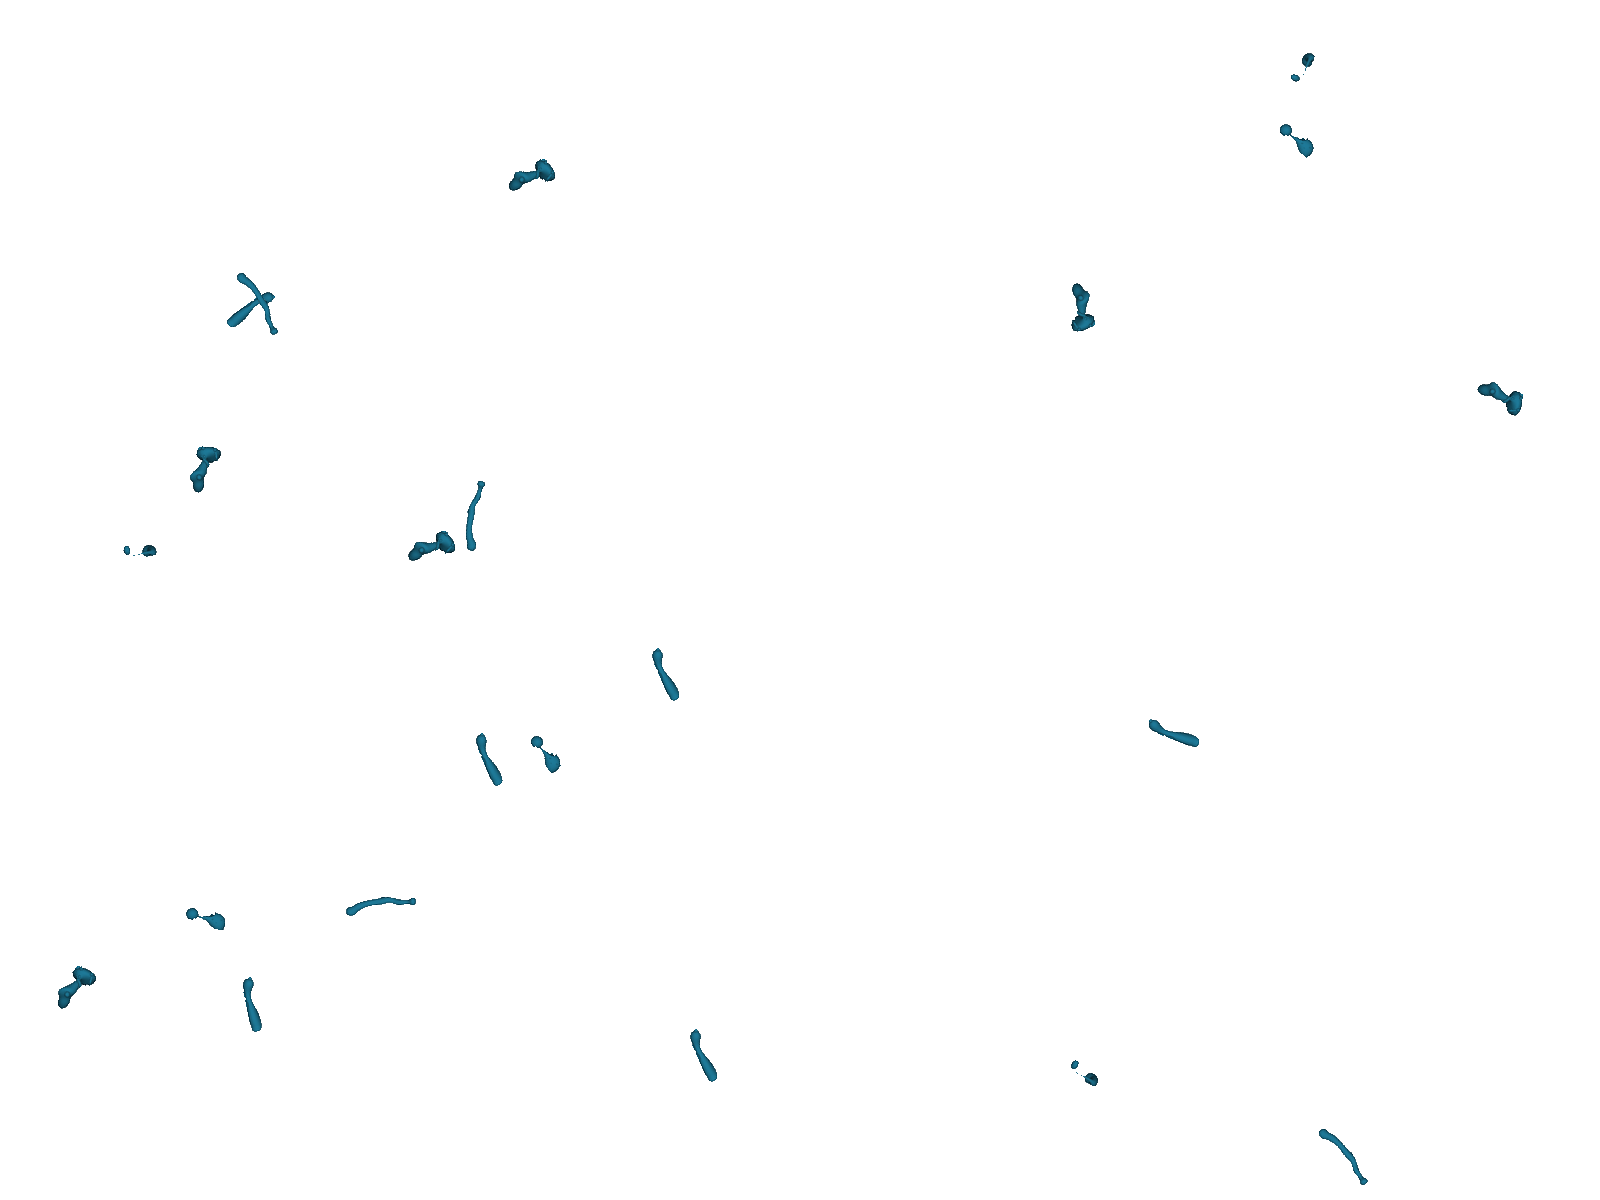Detached ligament: (1315, 1117, 1372, 1194), (451, 476, 499, 556), (234, 263, 282, 342), (47, 961, 100, 1017), (220, 286, 278, 334), (501, 153, 559, 200), (401, 524, 459, 571), (1471, 373, 1529, 418), (646, 645, 687, 706), (684, 1026, 724, 1087), (181, 441, 224, 498), (470, 730, 509, 792), (1144, 715, 1204, 753), (341, 892, 418, 919), (1063, 279, 1099, 334), (525, 730, 567, 776), (1274, 118, 1320, 160), (238, 976, 267, 1036), (181, 903, 231, 932), (1065, 1058, 1104, 1088), (1288, 48, 1317, 88), (118, 536, 159, 565)
